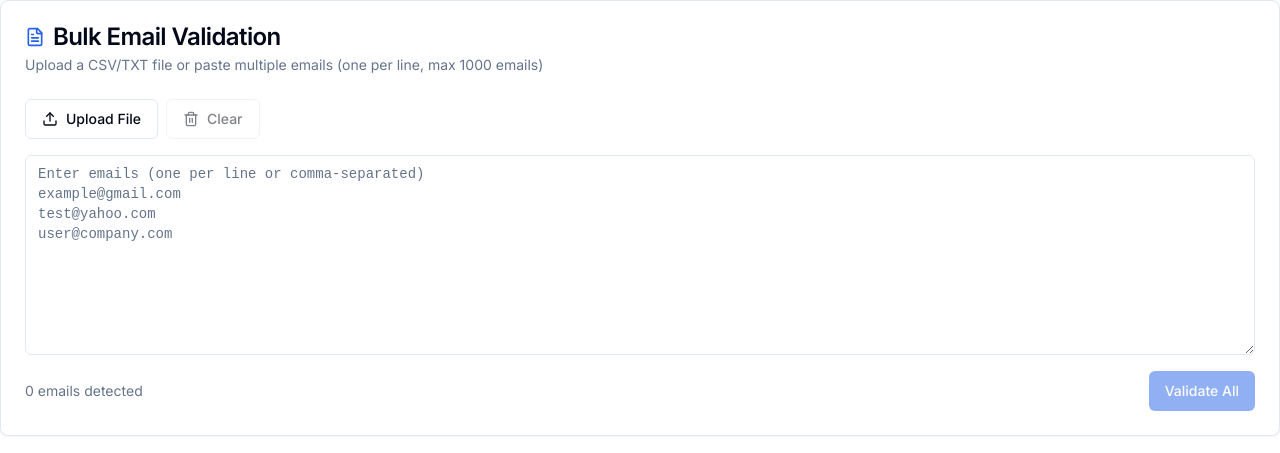
BulkValidator › email parsing › handles comma-separated emails
Type "test1@example.com, test2@example.com" into the text box with placeholder "Enter emails" at [640, 255], box x1=25 y1=155 x2=1255 y2=355
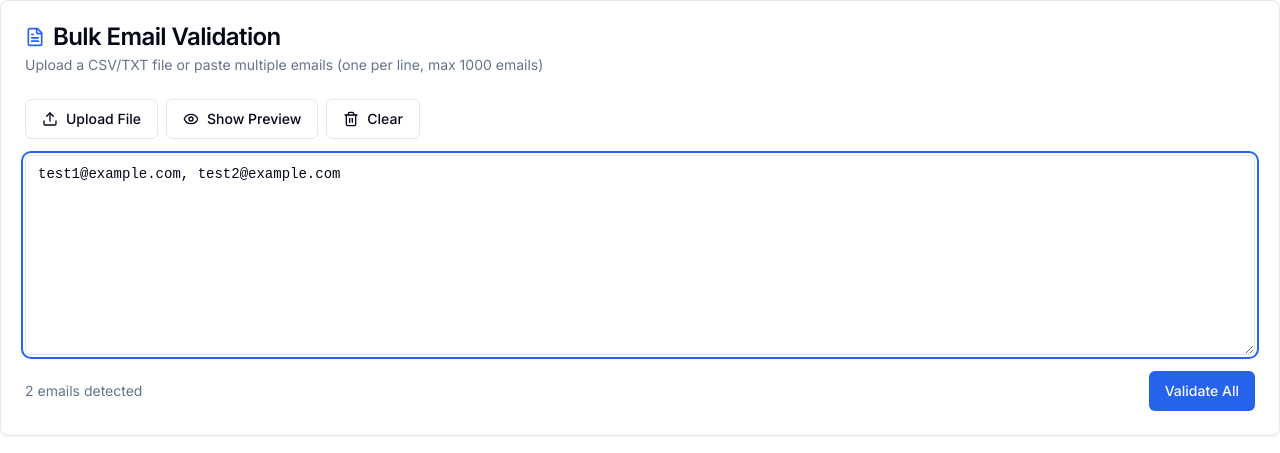
Result: the text "2 emails detected" is shown at x1=25 y1=381 x2=142 y2=401
